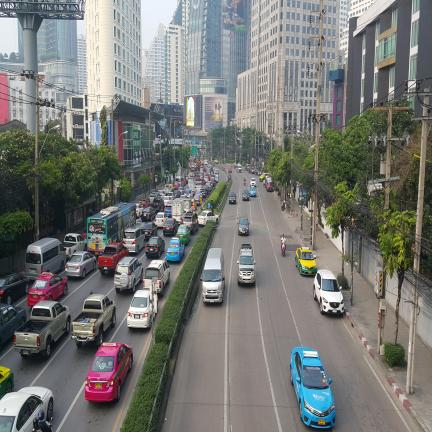bus: (87, 203, 136, 255)
car: (313, 270, 344, 314), (115, 257, 144, 293), (127, 290, 152, 328), (144, 260, 170, 296), (65, 251, 96, 278), (237, 244, 256, 286), (146, 236, 165, 258), (142, 221, 159, 241), (163, 218, 179, 237), (155, 212, 169, 227), (238, 217, 249, 236), (153, 310, 155, 319), (157, 306, 157, 310)
human: (38, 410, 52, 432), (280, 234, 286, 252)
motorbike: (32, 417, 41, 432), (46, 422, 53, 432), (282, 243, 285, 257), (281, 203, 285, 211)
pickup: (14, 301, 71, 358), (71, 293, 116, 347), (98, 242, 129, 275), (63, 233, 87, 259)
taxi: (290, 347, 335, 428), (85, 342, 133, 402), (295, 247, 317, 275), (166, 237, 185, 262), (176, 225, 191, 245)
van: (24, 238, 66, 280), (200, 248, 225, 303), (122, 227, 145, 254)
